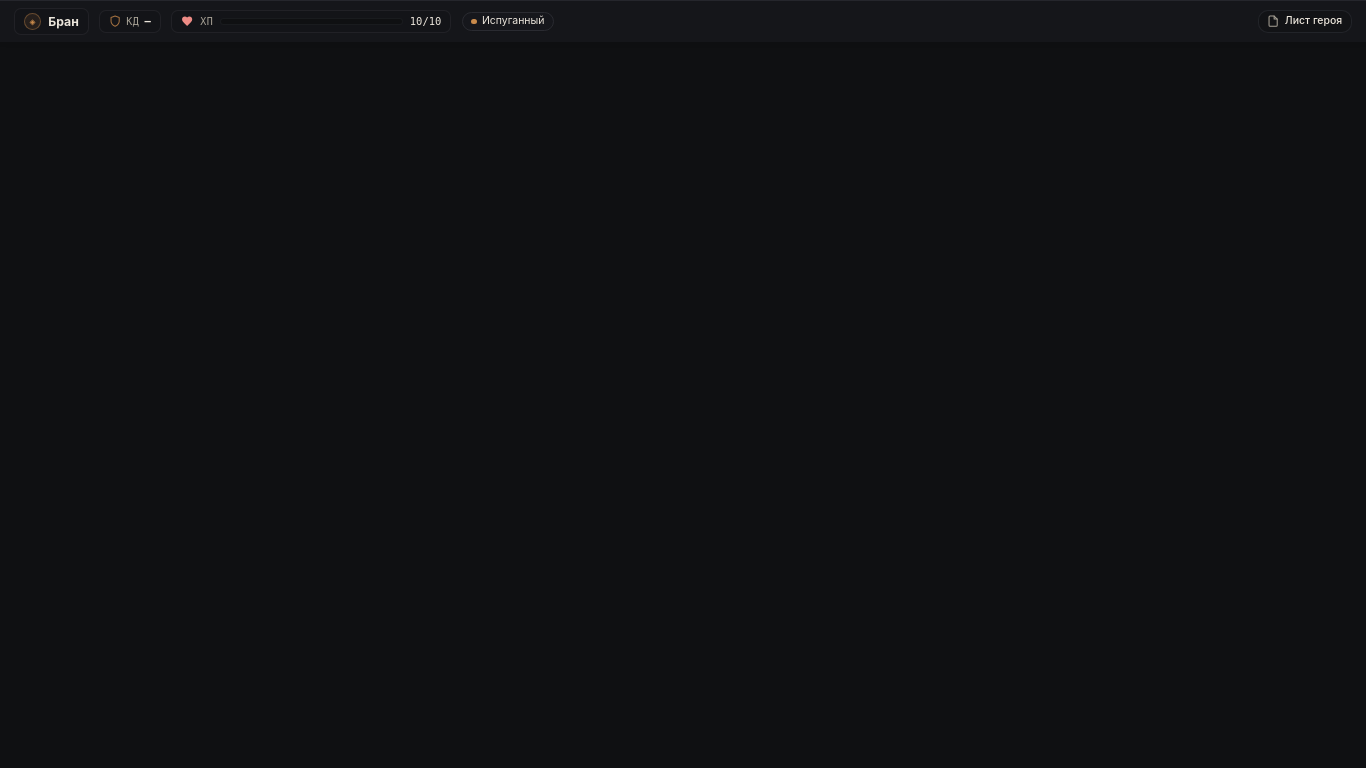
Scenario: статус в панели героя открывает описание вместо листа героя
The width and height of the screenshot is (1366, 768).
Click the button "Испуганный". click: (508, 21)
box: [462,12,554,31]
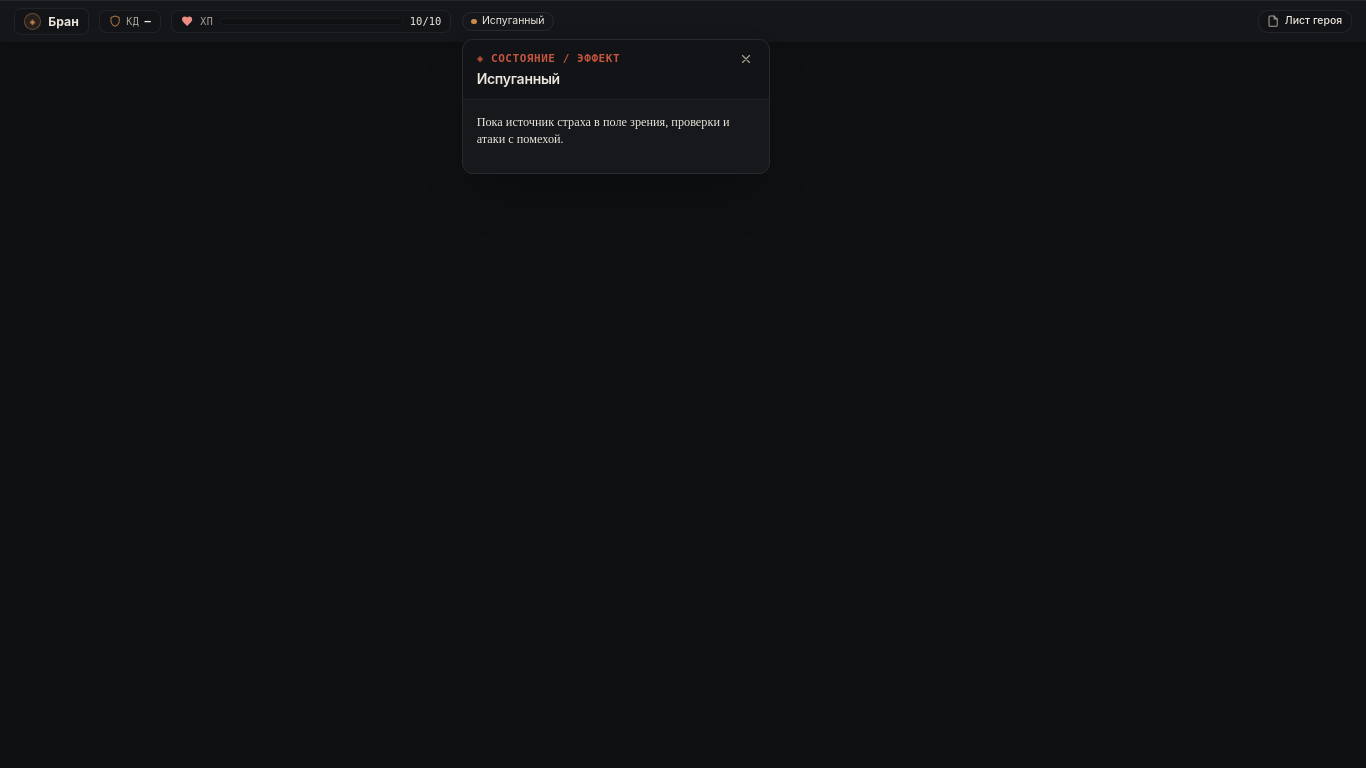
Expected: the dialog named "Карточка: Испуганный" is shown, [462,39,770,174]
Expected: the text "проверки и атаки с помехой" is shown, [477,114,730,146]
